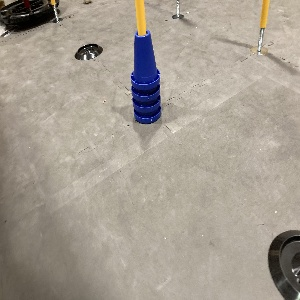Blue_4: (125, 27, 164, 126)
